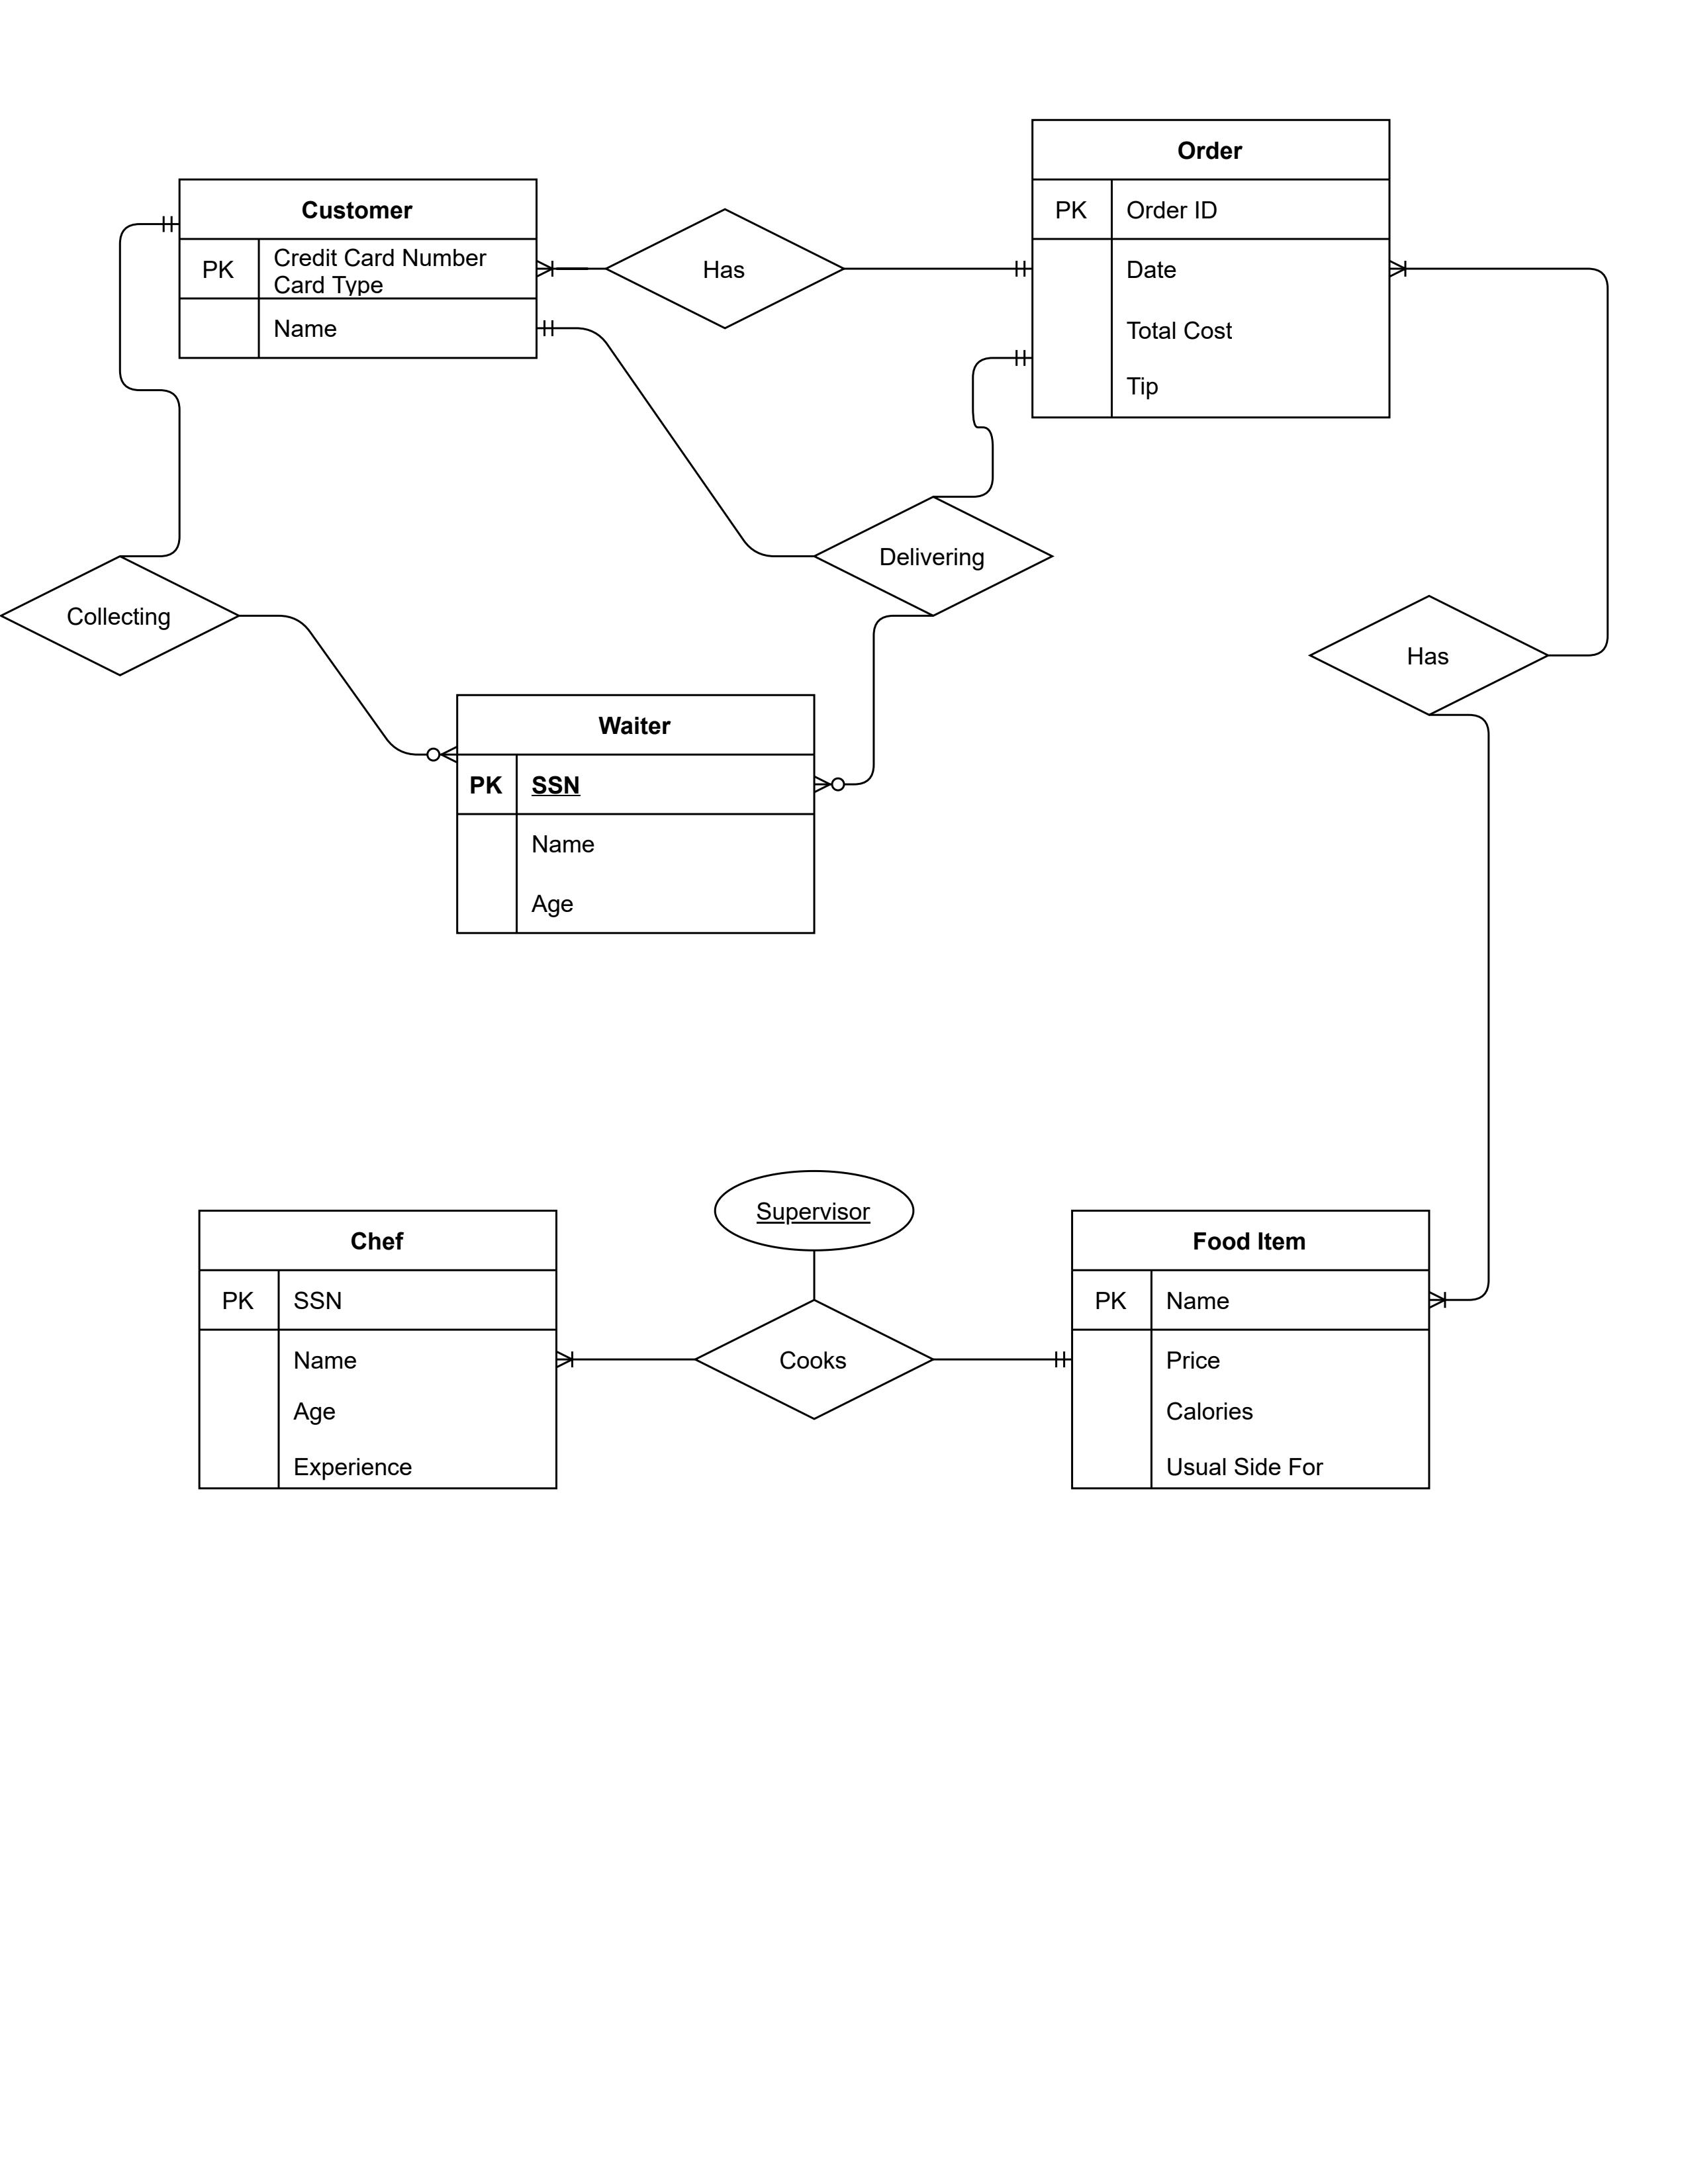Attribute: (713, 1166, 922, 1255)
Entity: (1020, 115, 1401, 429), (1060, 1204, 1442, 1500), (190, 1204, 564, 1500), (449, 690, 824, 941), (170, 175, 546, 369)
Relationship: (1303, 590, 1555, 720), (603, 204, 848, 335), (2, 553, 245, 684), (814, 489, 1059, 619), (693, 1298, 938, 1423)
